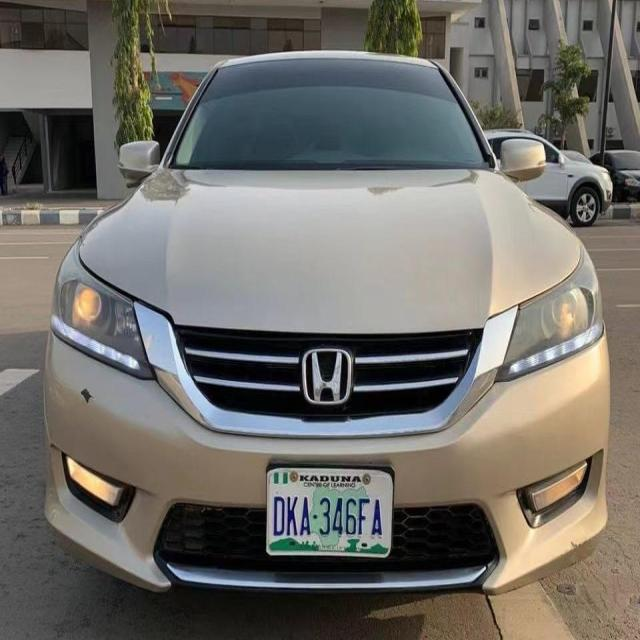Nigerian License Plate - vdataset benjamin-daria: (264, 461, 396, 566)
